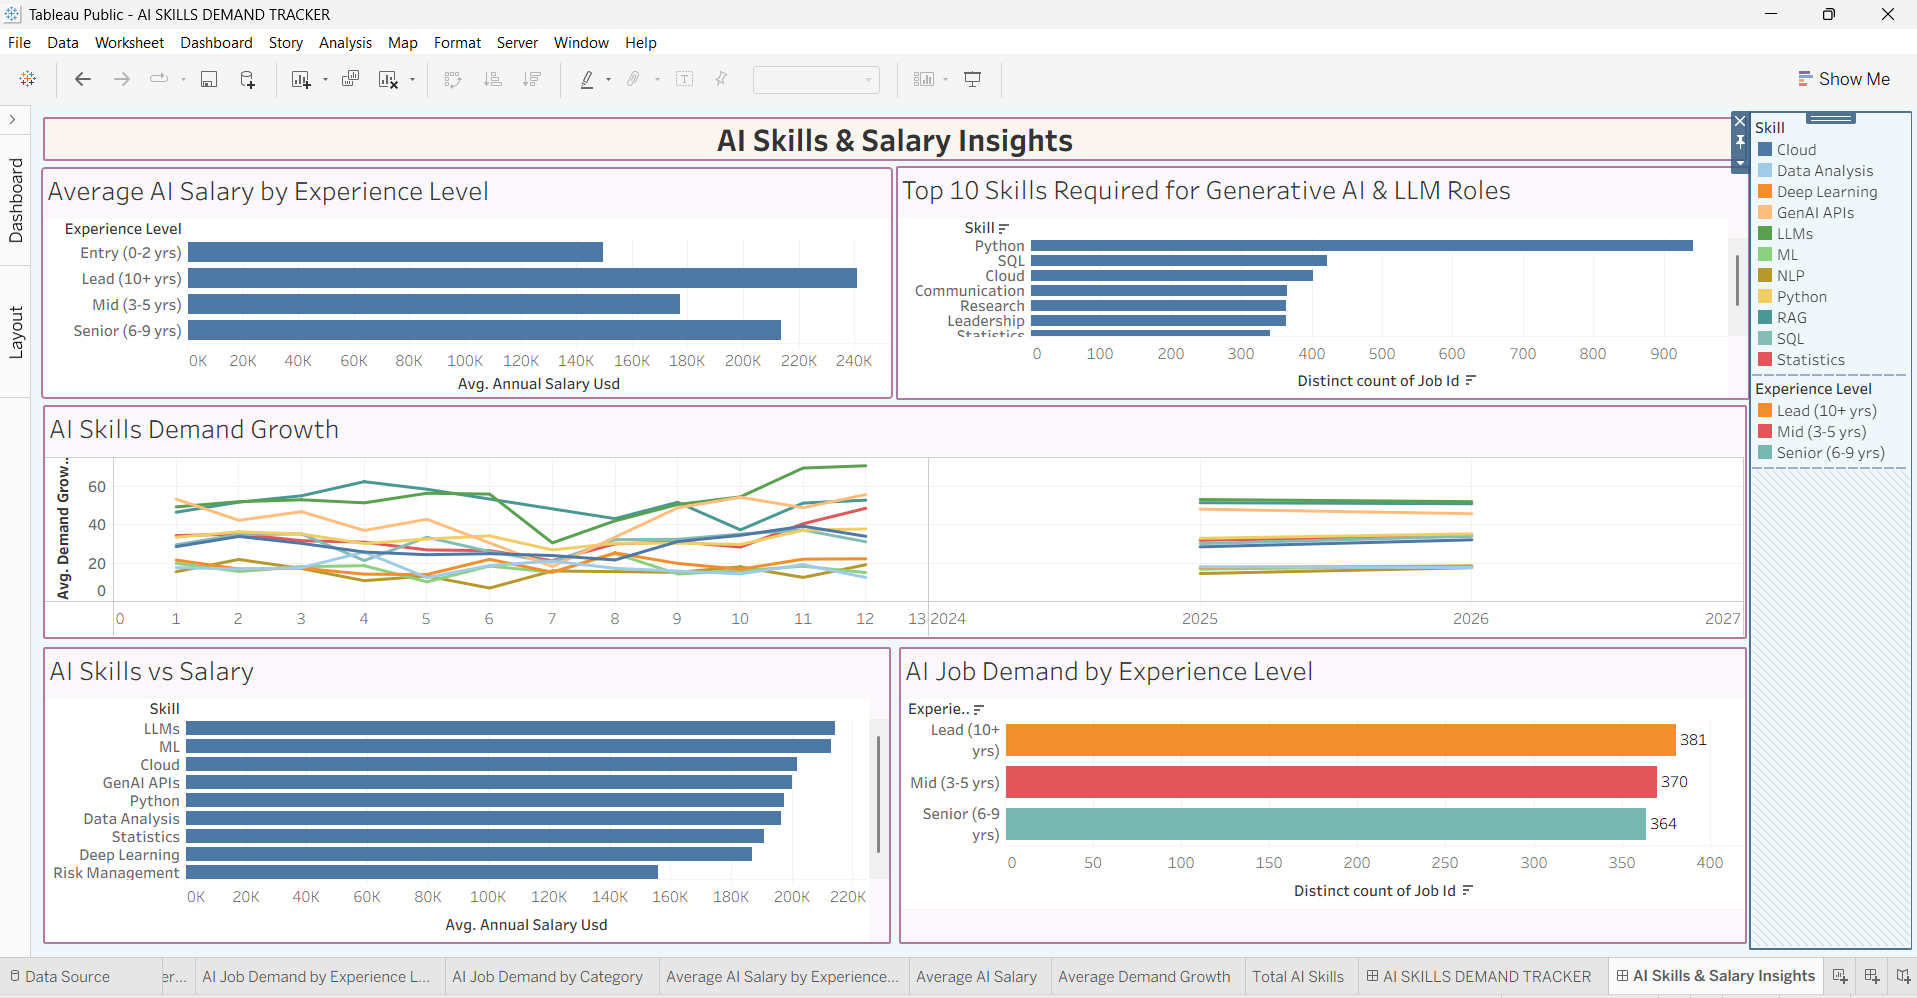

Layout of this report page (visuals, bound fields, positions):
{"tool":"tableau","page":{"name":"AI Skills & Salary Insights","canvas":[1000,1000],"units":"permille","ordinal":1},"visuals":[{"type":"title","box":[4.8,9.4,893.8,61.1]},{"type":"legend","title":"AI Skills Demand Growth","param":"[federated.0njcih500wpj1a17zattt1slat56].[none:skill:nk]","box":[898.6,9.4,96.6,306.7]},{"type":"worksheet","title":"Average AI Salary by Experience Level","mark":"Automatic","rows":["experience_level"],"cols":["annual_salary_usd"],"box":[4.8,70.5,446.9,277.6]},{"type":"worksheet","title":"Top 10 Skills Required for Generative AI & LLM Roles","mark":"Automatic","rows":["skill"],"cols":["job_id"],"box":[451.7,70.5,446.9,277.6]},{"type":"legend","title":"AI Job Demand by Experience Level","param":"[federated.0njcih500wpj1a17zattt1slat56].[none:experience_level:nk]","box":[898.6,316.1,96.6,109.3]},{"type":"worksheet","title":"AI Skills Demand Growth","mark":"Line","rows":["demand_growth_yoy_pct"],"cols":["posting_month","posting_year"],"box":[4.8,348.1,893.8,284.5]},{"type":"worksheet","title":"AI Skills vs Salary","mark":"Automatic","rows":["skill"],"cols":["annual_salary_usd"],"box":[4.8,632.6,446.9,358]},{"type":"worksheet","title":"AI Job Demand by Experience Level","mark":"Automatic","rows":["experience_level"],"cols":["job_id"],"box":[451.7,632.6,446.9,358]}]}

Visuals, with their boxes on the dashboard's canvas, which has no fixed pixel size, in thousandths of its width and height (x1, y1, x2, y2). These are canvas units, not pixel positions in the 1917x998 screenshot, which may show the page scaled, cropped or inside an application window:
title: pyautogui.locateOnScreen(5, 9, 899, 70)
"AI Skills Demand Growth" legend: pyautogui.locateOnScreen(899, 9, 995, 316)
"Average AI Salary by Experience Level" worksheet: pyautogui.locateOnScreen(5, 70, 452, 348)
"Top 10 Skills Required for Generative AI & LLM Roles" worksheet: pyautogui.locateOnScreen(452, 70, 899, 348)
"AI Job Demand by Experience Level" legend: pyautogui.locateOnScreen(899, 316, 995, 425)
"AI Skills Demand Growth" worksheet (Line marks): pyautogui.locateOnScreen(5, 348, 899, 633)
"AI Skills vs Salary" worksheet: pyautogui.locateOnScreen(5, 633, 452, 991)
"AI Job Demand by Experience Level" worksheet: pyautogui.locateOnScreen(452, 633, 899, 991)
